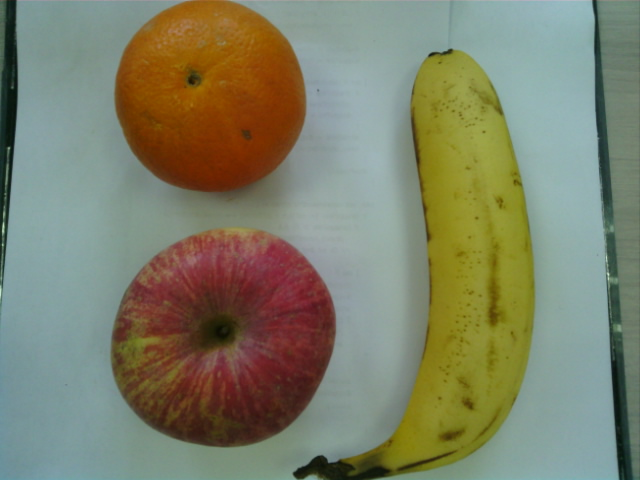normal_apple: (111, 228, 338, 449)
normal_banana: (352, 46, 539, 480)
normal_orange: (113, 1, 307, 192)
